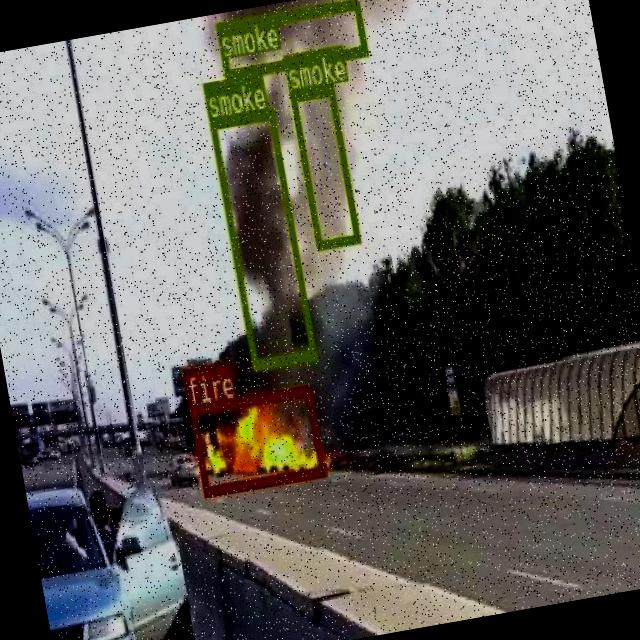smoke: (209, 108, 315, 368), (214, 0, 367, 79), (287, 82, 359, 246)
